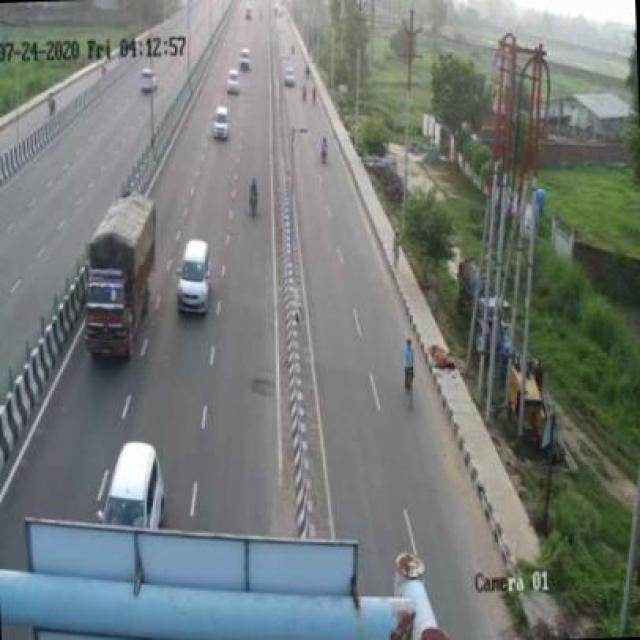car: (95, 422, 170, 536), (168, 232, 228, 336)
